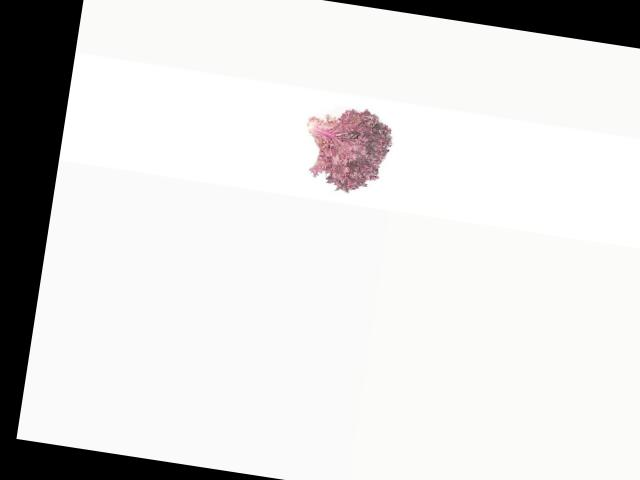lettuce: (289, 103, 400, 201)
